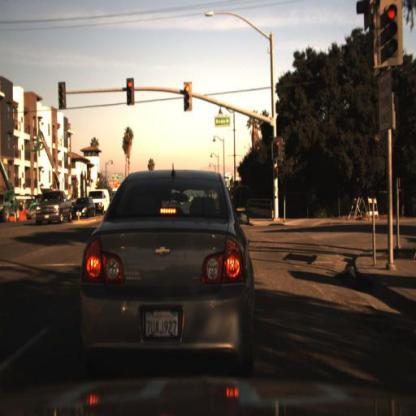car: (74, 168, 261, 387), (35, 191, 75, 226), (69, 195, 96, 220), (97, 189, 111, 218)
trafficLight: (183, 82, 194, 116)
trafficLight-Red: (383, 2, 401, 57), (127, 81, 135, 112), (275, 136, 281, 163), (275, 140, 281, 156)
truck: (92, 189, 110, 220)
